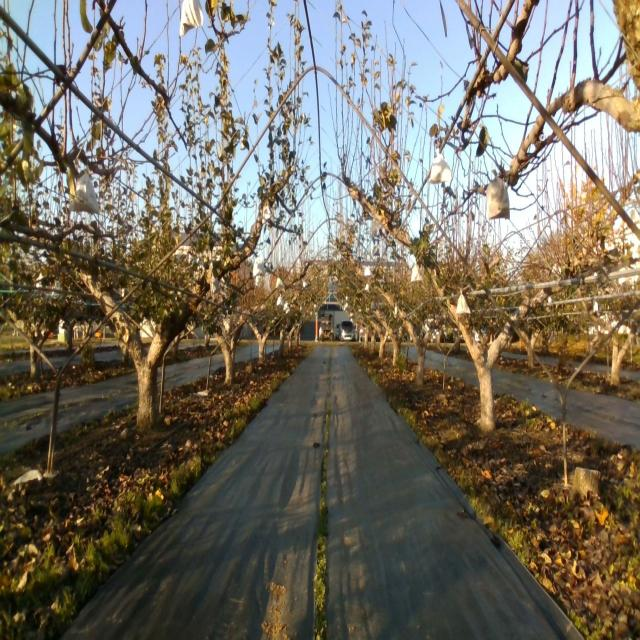pearbags: (66, 168, 102, 214), (486, 169, 510, 219), (430, 148, 452, 182), (457, 288, 470, 316), (253, 250, 265, 278), (209, 274, 221, 297), (261, 202, 273, 224), (410, 262, 422, 282), (370, 216, 382, 235)
